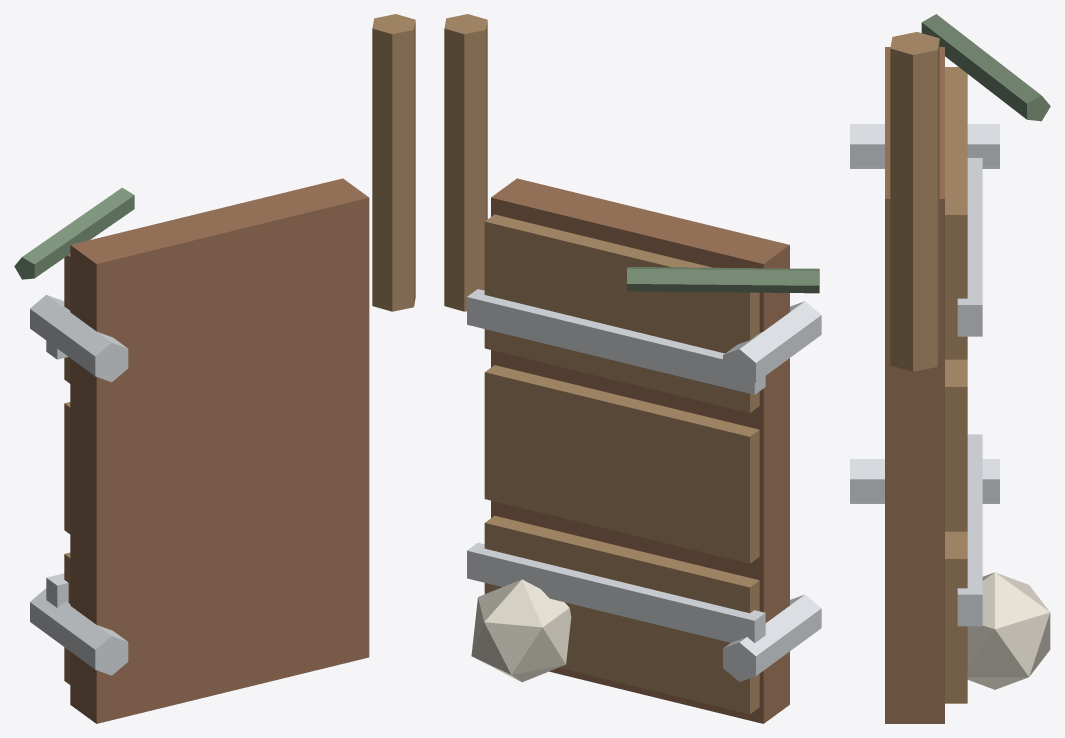
Rendered from wreck_rudder.glb.
3 views of the same model, side by side, from view 1: azimuth 30°, elevation 25°; view 2: azimuth 150°, elevation 25°; view 3: azimuth 270°, elevation 25° (orthographic). The views are drawn at different scales.
Parts seen in each view (by area): view 1: blade, tiller, pintle_1, pintle_0, rope.001, plank_1.001, band_0; view 2: plank_1.001, blade, plank_2.001, plank_0.001, tiller, band_0, band_1, barnacle, rope.001, pintle_1, pintle_0; view 3: blade, tiller, barnacle, plank_2.001, rope.001, plank_1.001, plank_0.001, band_0, band_1, pintle_1, pintle_0.
Boxes of the visible parts, x1=… form: blade: x1=70, y1=178, x2=369, y2=723; tiller: x1=372, y1=14, x2=415, y2=311; pintle_1: x1=30, y1=294, x2=128, y2=382; pintle_0: x1=30, y1=588, x2=128, y2=675; rope.001: x1=14, y1=187, x2=134, y2=279; plank_1.001: x1=64, y1=402, x2=70, y2=533; band_0: x1=46, y1=573, x2=68, y2=607; plank_1.001: x1=484, y1=365, x2=759, y2=563; blade: x1=491, y1=178, x2=789, y2=723; plank_2.001: x1=484, y1=214, x2=759, y2=412; plank_0.001: x1=484, y1=515, x2=759, y2=714; tiller: x1=444, y1=14, x2=487, y2=311; band_0: x1=467, y1=542, x2=765, y2=642; band_1: x1=467, y1=289, x2=765, y2=394; barnacle: x1=471, y1=579, x2=571, y2=682; rope.001: x1=627, y1=267, x2=819, y2=293; pintle_1: x1=723, y1=301, x2=821, y2=388; pintle_0: x1=723, y1=594, x2=821, y2=681; blade: x1=885, y1=47, x2=944, y2=723; tiller: x1=890, y1=32, x2=939, y2=371; barnacle: x1=967, y1=572, x2=1050, y2=689; plank_2.001: x1=945, y1=67, x2=967, y2=359; rope.001: x1=921, y1=14, x2=1050, y2=121; plank_1.001: x1=945, y1=359, x2=967, y2=531; plank_0.001: x1=945, y1=531, x2=967, y2=703; band_0: x1=957, y1=434, x2=982, y2=626; band_1: x1=957, y1=158, x2=982, y2=336; pintle_1: x1=850, y1=124, x2=999, y2=168; pintle_0: x1=850, y1=459, x2=999, y2=503.
Bounding box in the file's own units: 1.02 × 1.55 × 0.4018.
